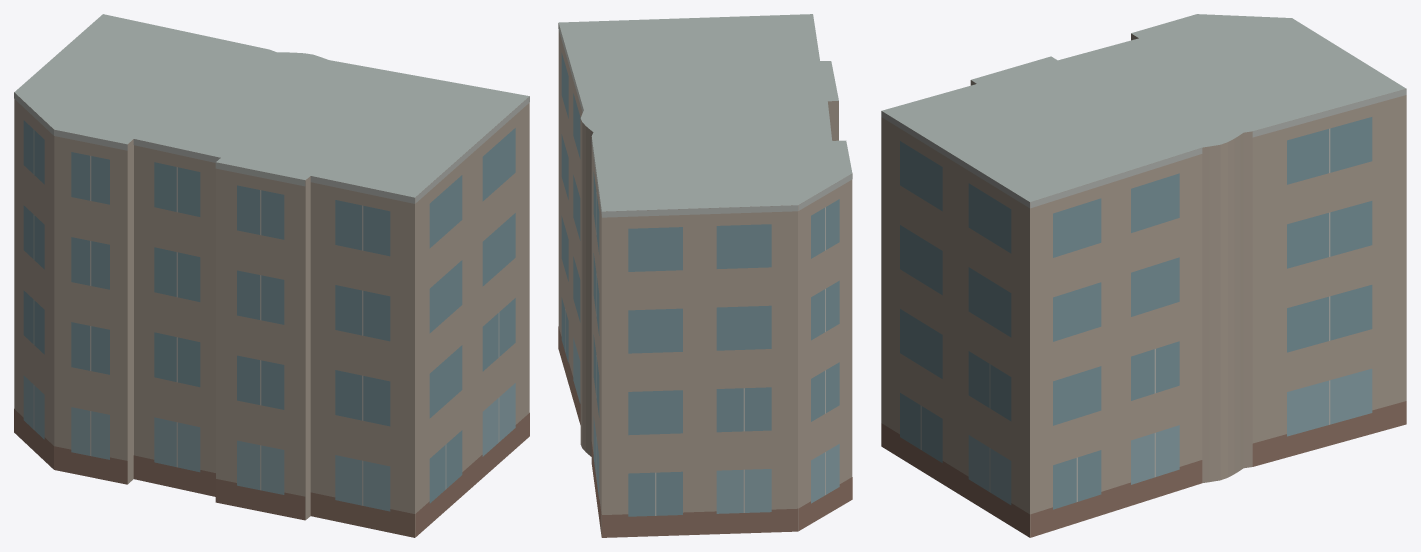
The model's file is survey-upis-32780399.glb.
3 views of the same model, side by side, from view 1: azimuth 30°, elevation 25°; view 2: azimuth 150°, elevation 25°; view 3: azimuth 270°, elevation 25° (orthographic). The views are drawn at different scales.
Parts seen in each view (by area): view 1: survey-upis-32780399.tmp; view 2: survey-upis-32780399.tmp; view 3: survey-upis-32780399.tmp.
Boxes of the visible parts, bbox=[...] form: survey-upis-32780399.tmp: bbox=[14, 14, 529, 537]; survey-upis-32780399.tmp: bbox=[558, 14, 852, 537]; survey-upis-32780399.tmp: bbox=[881, 14, 1406, 537].
Size of the model in its own units: 15.76 by 13.1 by 18.58.
